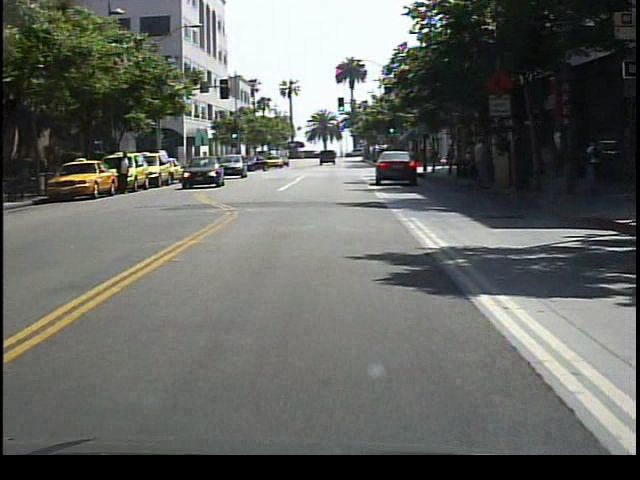person: (471, 132, 495, 197), (118, 147, 136, 197)
